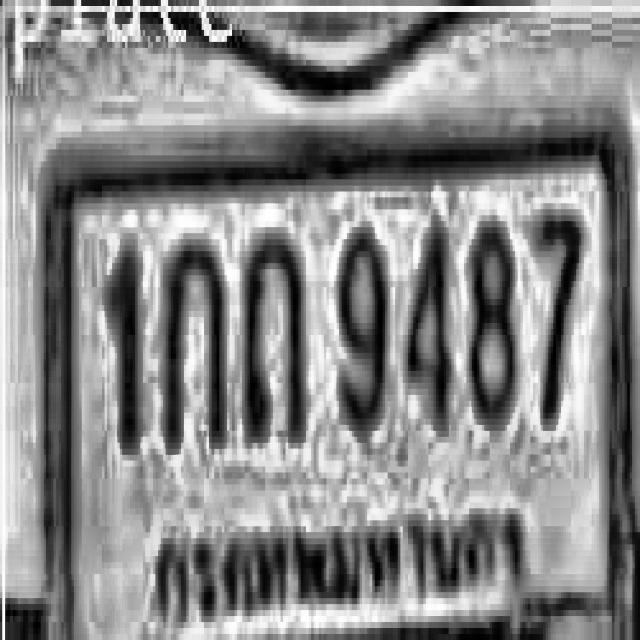license-plate: (37, 126, 640, 640)
